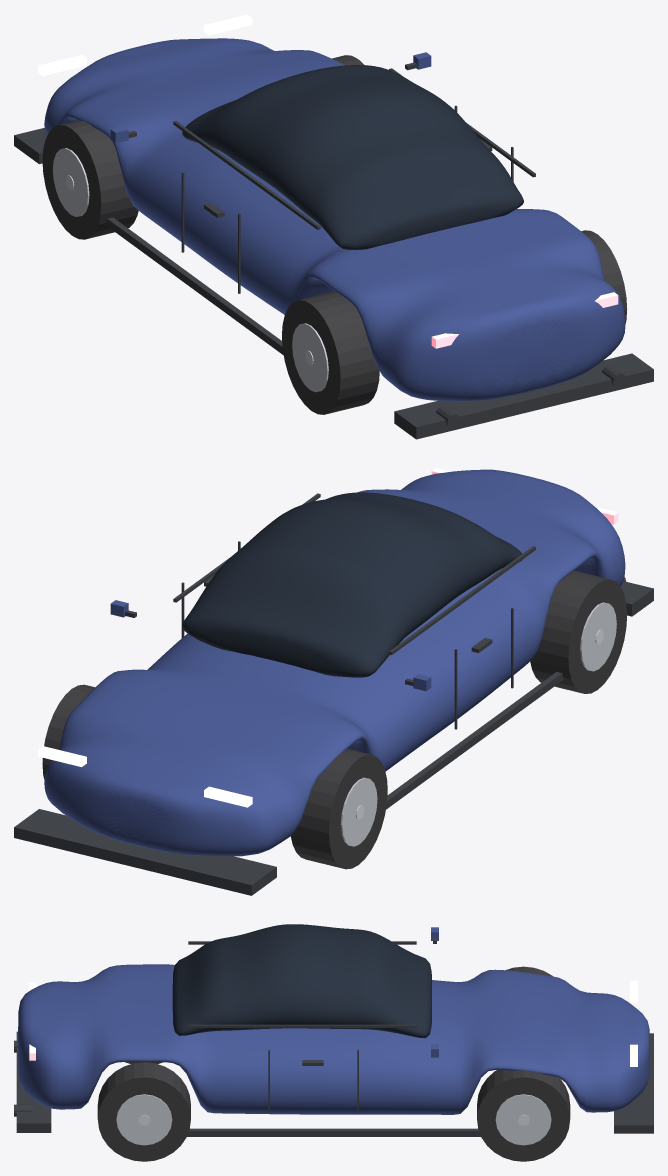
Rendered from titan-rs.glb.
3 views of the same model, one above another, from view 1: azimuth 30°, elevation 25°; view 2: azimuth 150°, elevation 25°; view 3: azimuth 270°, elevation 25° (orthographic). The views are drawn at different scales.
Parts seen in each view (by area): view 1: Body, Glass, Trim, WheelRL, WheelFL, LightFront, WheelRR; view 2: Body, Glass, Trim, WheelRL, WheelFL, WheelFR, LightFront; view 3: Body, Glass, WheelRR, Trim, WheelFR, LightFront.
Part boxes in pixels (x1=…): Body: x1=44, y1=38, x2=625, y2=400; Glass: x1=182, y1=65, x2=523, y2=249; Trim: x1=14, y1=52, x2=653, y2=439; WheelRL: x1=282, y1=291, x2=379, y2=414; WheelFL: x1=42, y1=120, x2=138, y2=239; LightFront: x1=38, y1=14, x2=252, y2=75; WheelRR: x1=581, y1=230, x2=627, y2=324; Body: x1=44, y1=469, x2=625, y2=856; Glass: x1=182, y1=492, x2=522, y2=677; Trim: x1=14, y1=493, x2=653, y2=895; WheelRL: x1=530, y1=570, x2=627, y2=693; WheelFL: x1=291, y1=749, x2=387, y2=869; WheelFR: x1=42, y1=684, x2=94, y2=780; LightFront: x1=38, y1=746, x2=252, y2=807; Body: x1=18, y1=964, x2=649, y2=1114; Glass: x1=172, y1=924, x2=431, y2=1038; WheelRR: x1=97, y1=1062, x2=190, y2=1161; Trim: x1=14, y1=927, x2=653, y2=1136; WheelFR: x1=477, y1=1070, x2=570, y2=1161; LightFront: x1=630, y1=980, x2=637, y2=1066.
Bounding box in the file's own units: 2.17 × 1.39 × 4.81.
